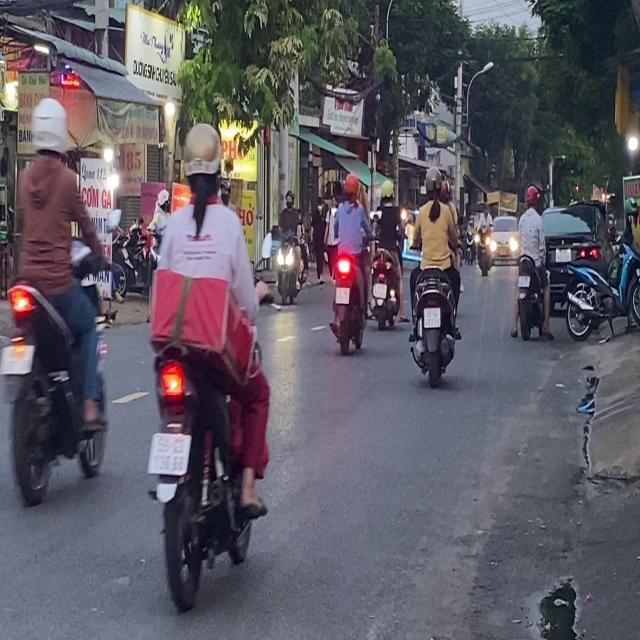helmet: (180, 121, 223, 204), (29, 96, 69, 162), (423, 164, 442, 200), (343, 171, 358, 201), (379, 178, 394, 202), (524, 184, 538, 209)
licenseplate: (143, 119, 274, 618), (0, 93, 111, 510), (406, 163, 463, 386), (328, 170, 370, 354), (512, 183, 552, 341), (370, 178, 406, 330)
nohelmet: (148, 433, 190, 472), (0, 344, 34, 373), (424, 307, 440, 327), (335, 286, 350, 303), (374, 283, 386, 298), (518, 275, 530, 287)
